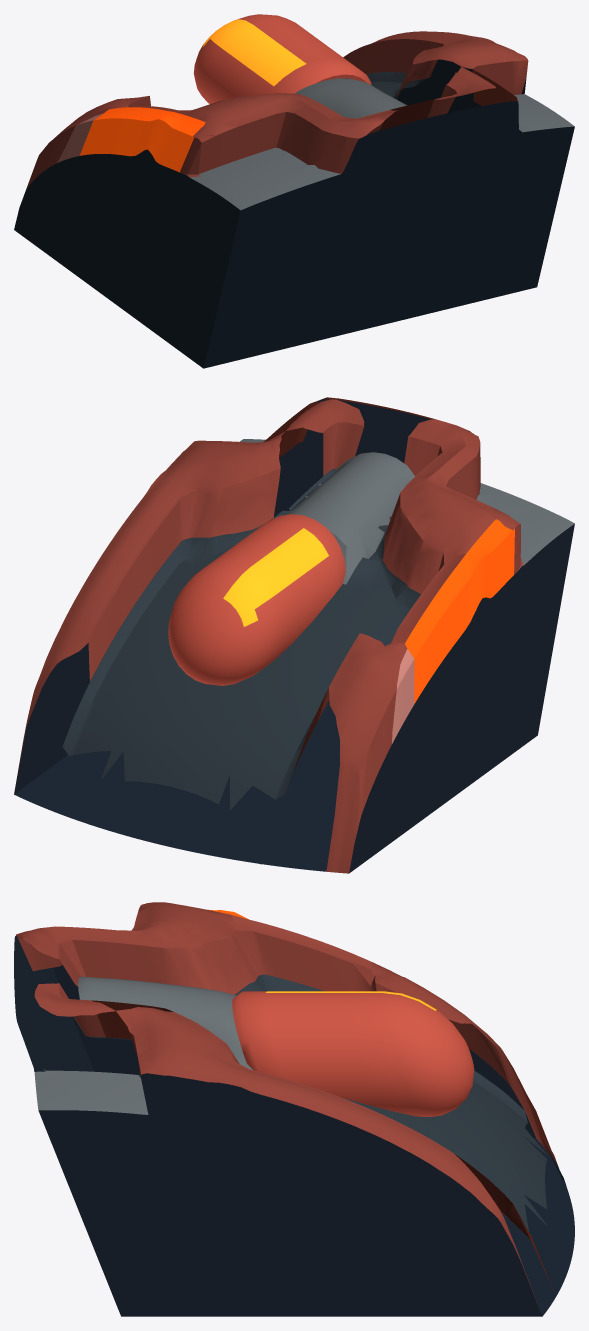
File: armour_dome_tm.glb
The picture shows the model from 3 angles, top to bottom: view 1: azimuth 30°, elevation 25°; view 2: azimuth 150°, elevation 25°; view 3: azimuth 270°, elevation 25°; orthographic projection. The views are drawn at different scales.
Visible parts, largest first — view 1: armour_dome_tm; view 2: armour_dome_tm; view 3: armour_dome_tm.
Part boxes in pixels (x1,y1,x2,y2): armour_dome_tm: (14,14,574,368); armour_dome_tm: (14,397,574,873); armour_dome_tm: (14,902,574,1316).
Bounding box in the file's own units: 24 × 17.26 × 31.92.
